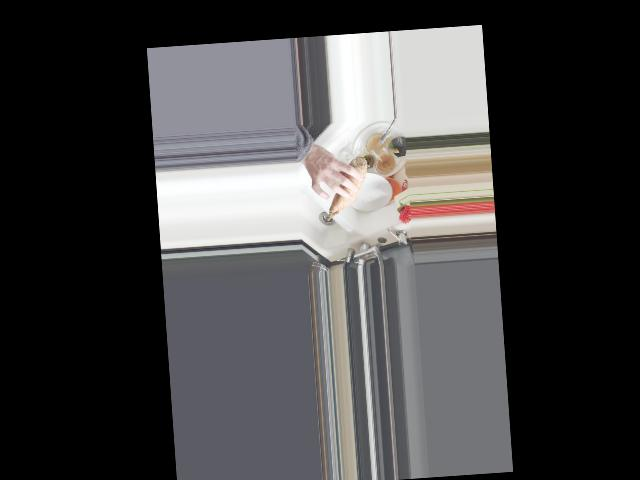sweet_potato: (322, 156, 371, 221)
